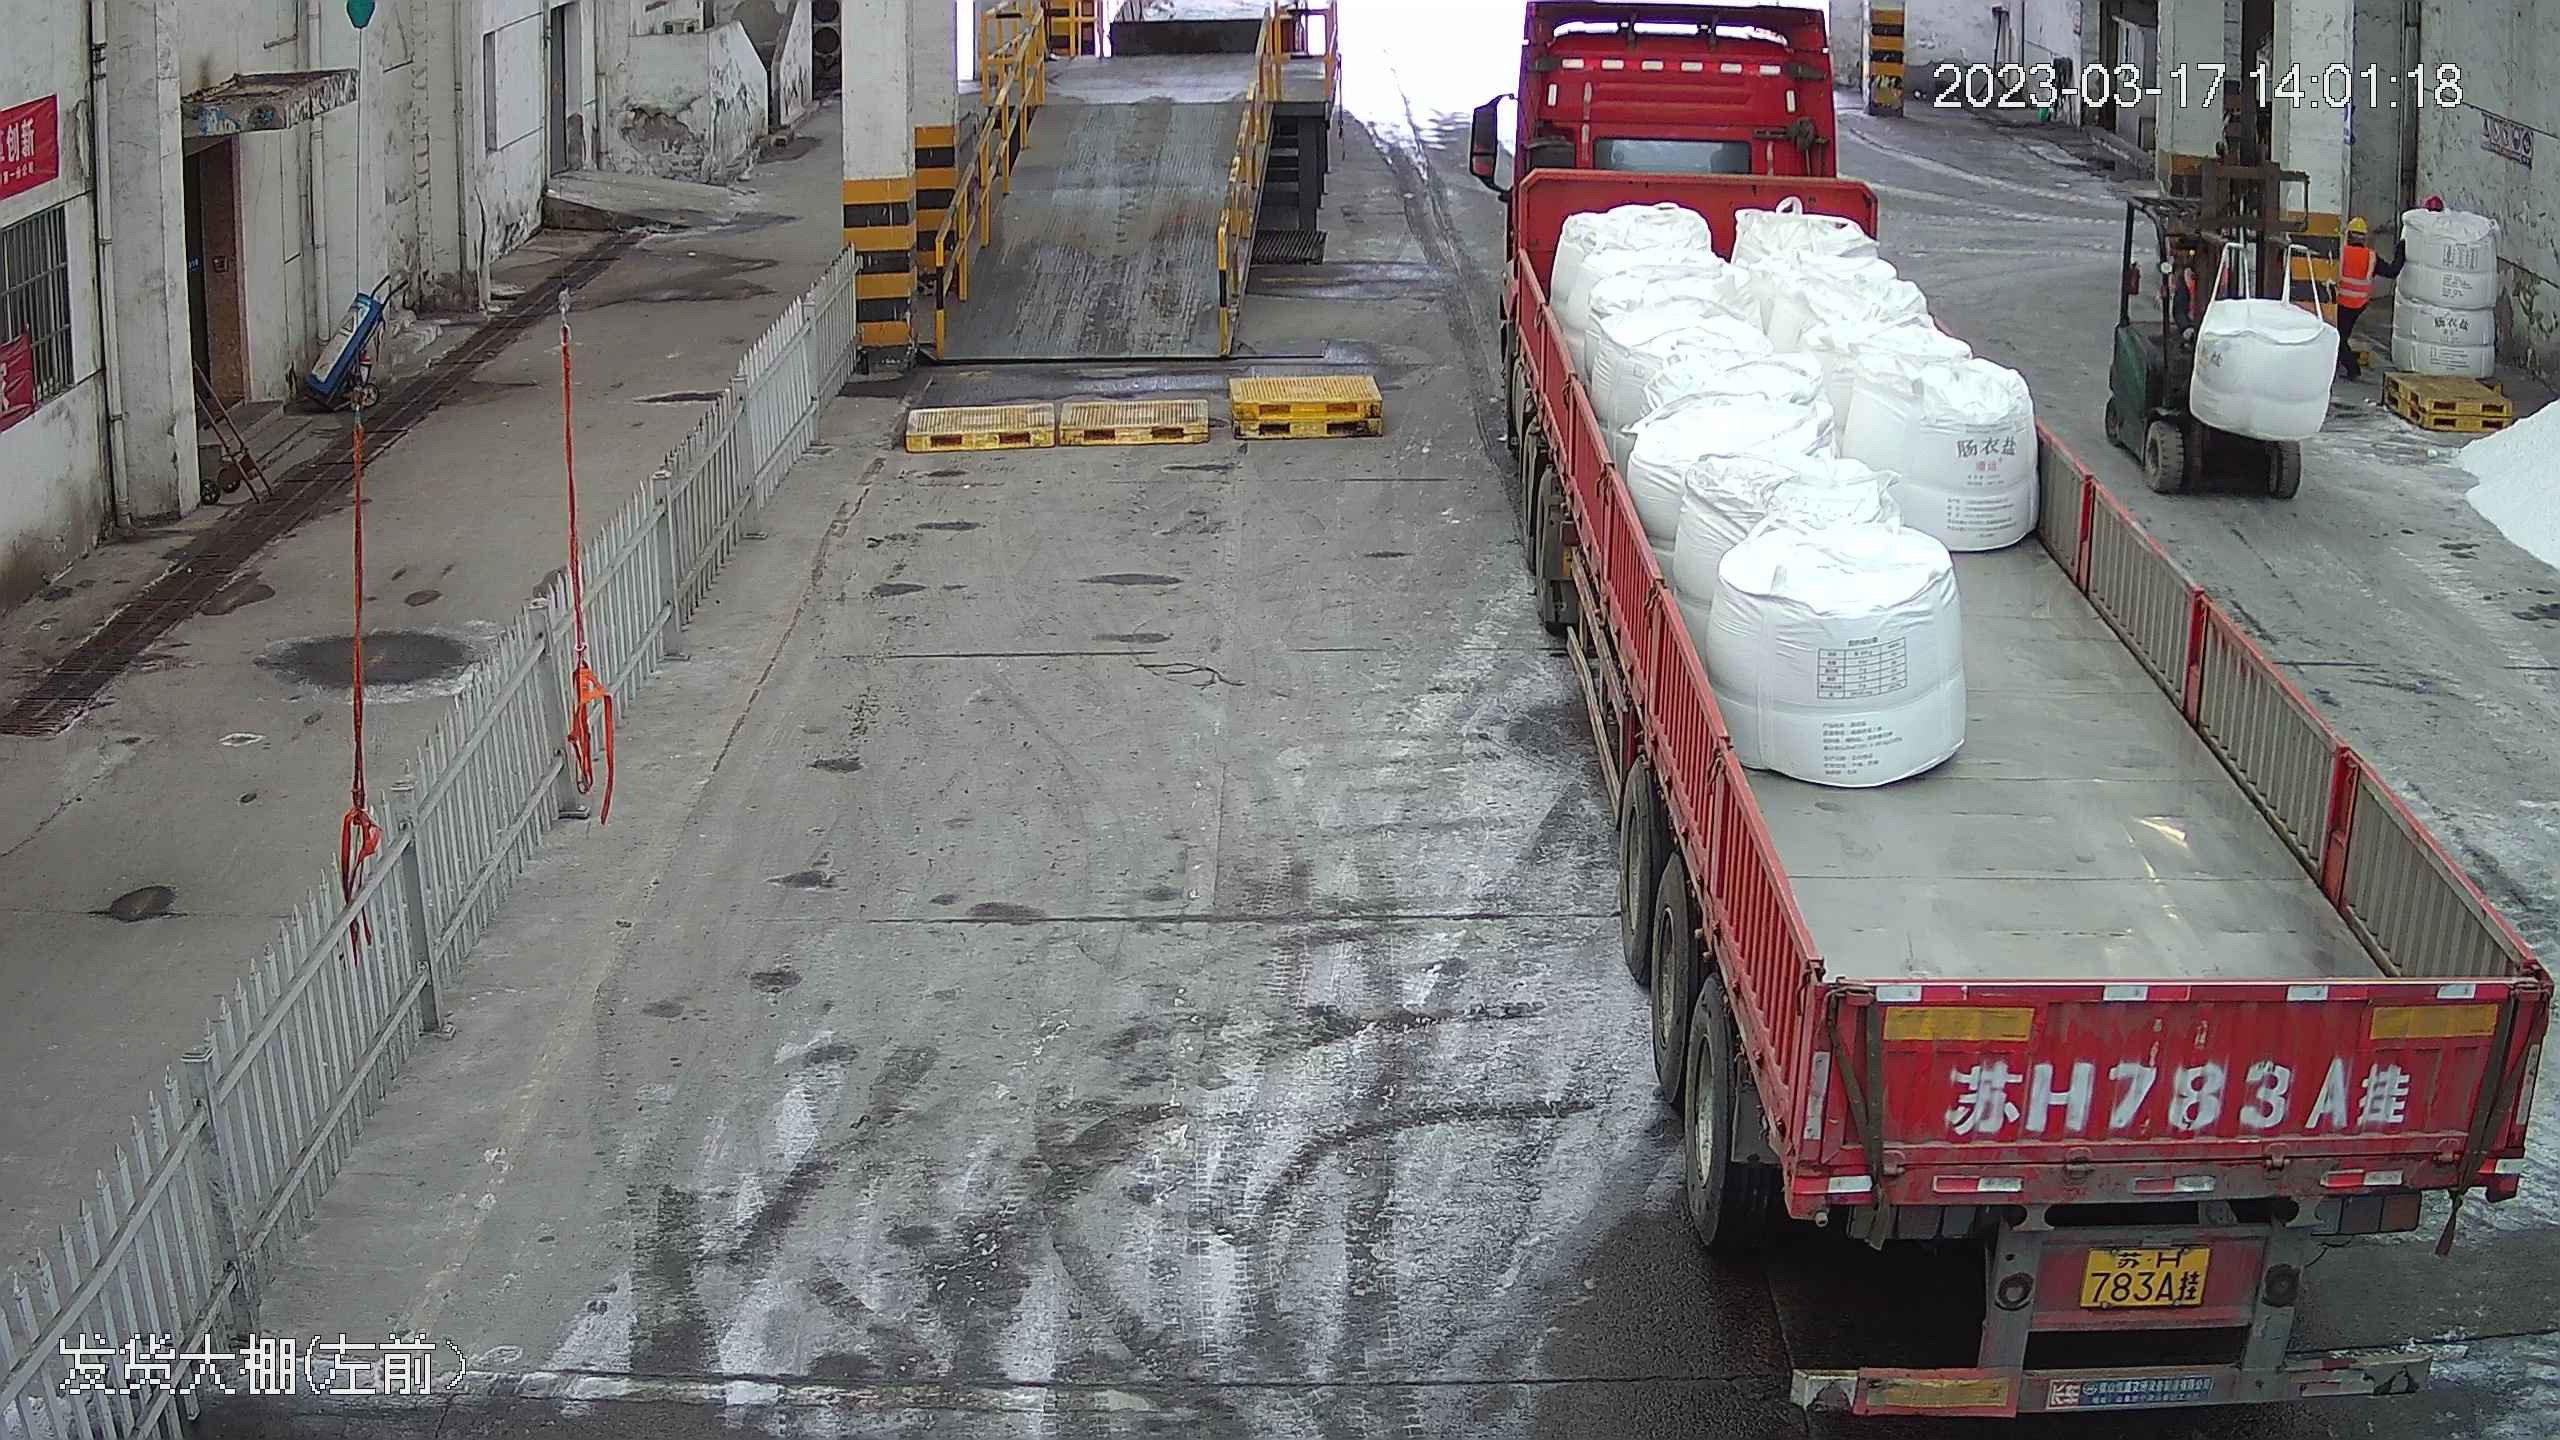head: (2338, 214, 2381, 267)
helmet: (2349, 212, 2374, 231)
people: (2328, 212, 2386, 362)
truck: (1476, 1, 2552, 1394)
